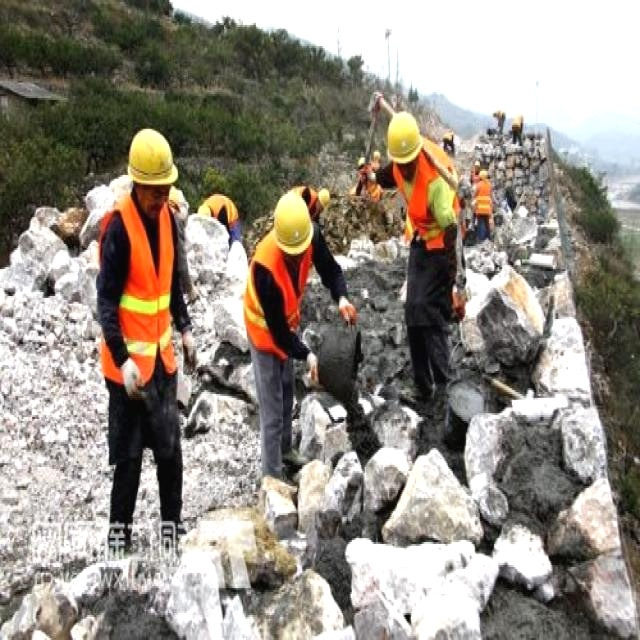Con_Casco: (128, 128, 177, 198), (273, 193, 313, 256)
Con_Chaleco: (100, 199, 177, 383)
